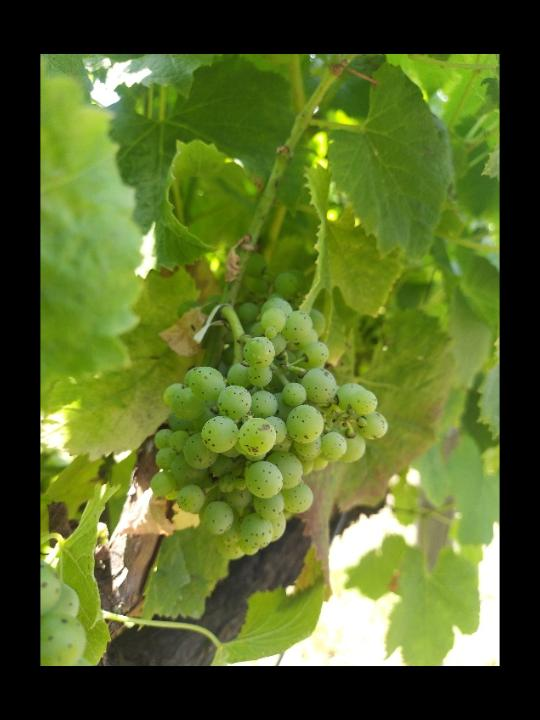grape: (150, 295, 390, 562)
